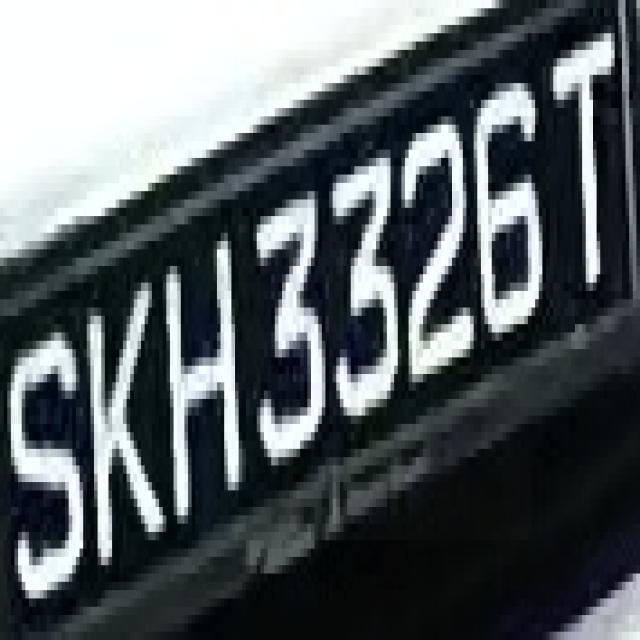2: (391, 108, 488, 416)
3: (318, 141, 409, 457), (242, 191, 322, 474)
6: (463, 50, 539, 374)
H: (145, 207, 242, 548)
K: (83, 232, 163, 574)
S: (7, 299, 87, 607)
T: (535, 17, 633, 316)
